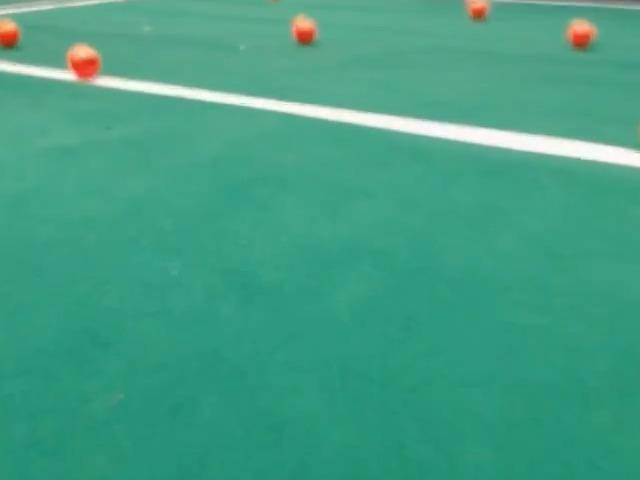Ball: (67, 43, 101, 79), (566, 19, 596, 49), (291, 15, 317, 45), (0, 18, 20, 48), (465, 0, 489, 21), (272, 0, 278, 0)
